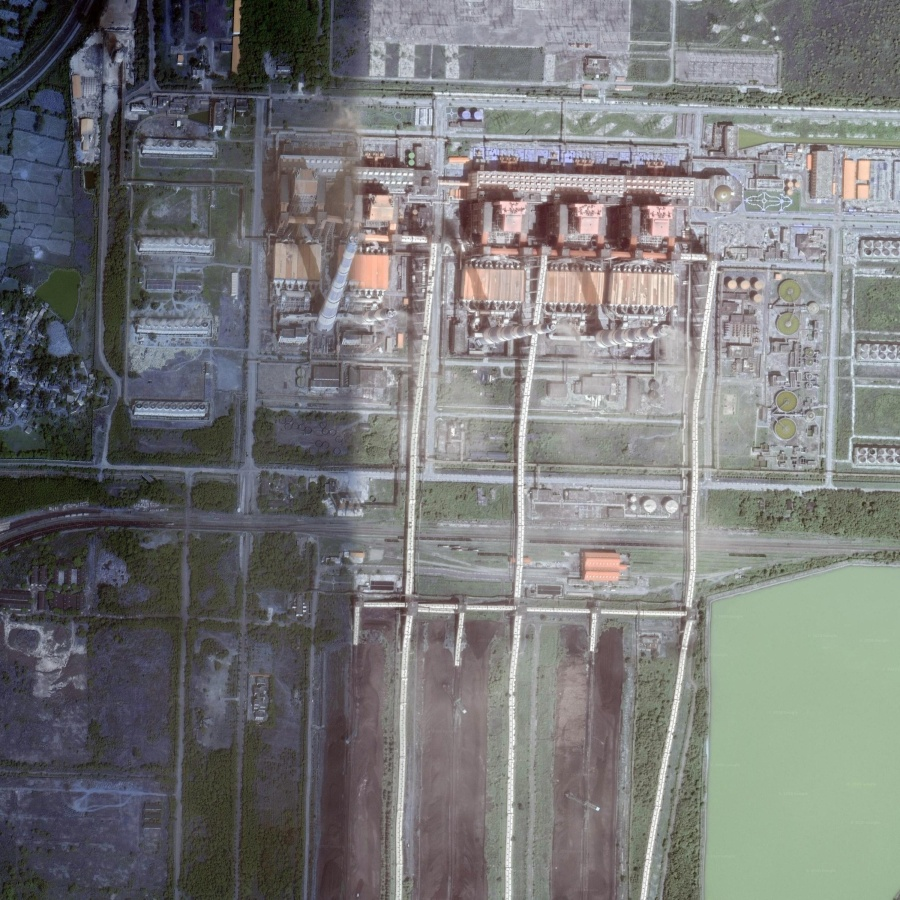PowerPlant: (248, 89, 710, 431)
